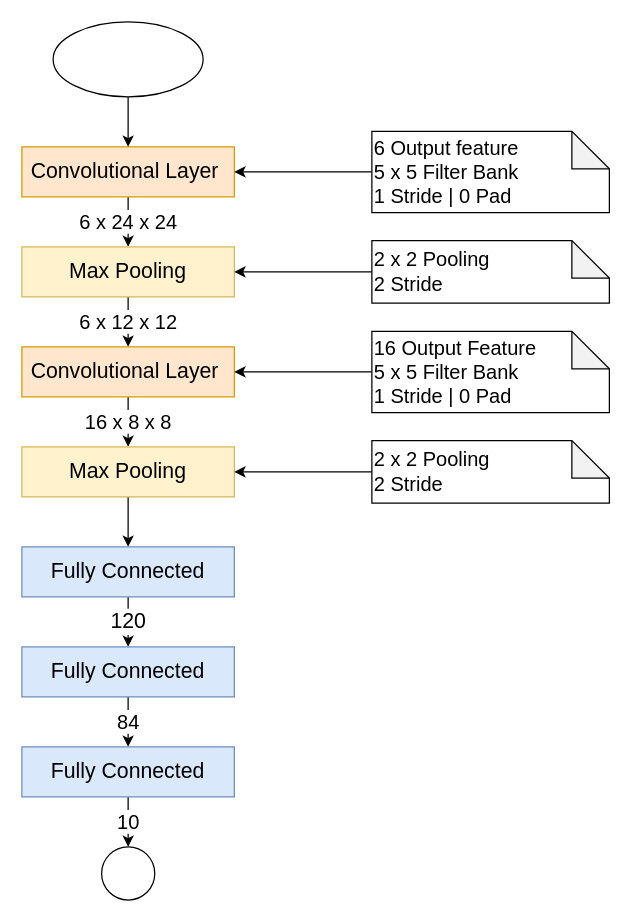
Some shapes in this 631 by 923 pixel diagram are drawn without their labels. Each missing label, with the box of its shape:
1 x 28 x 28: (52, 21, 203, 97)
Softmax: (100, 846, 155, 900)
